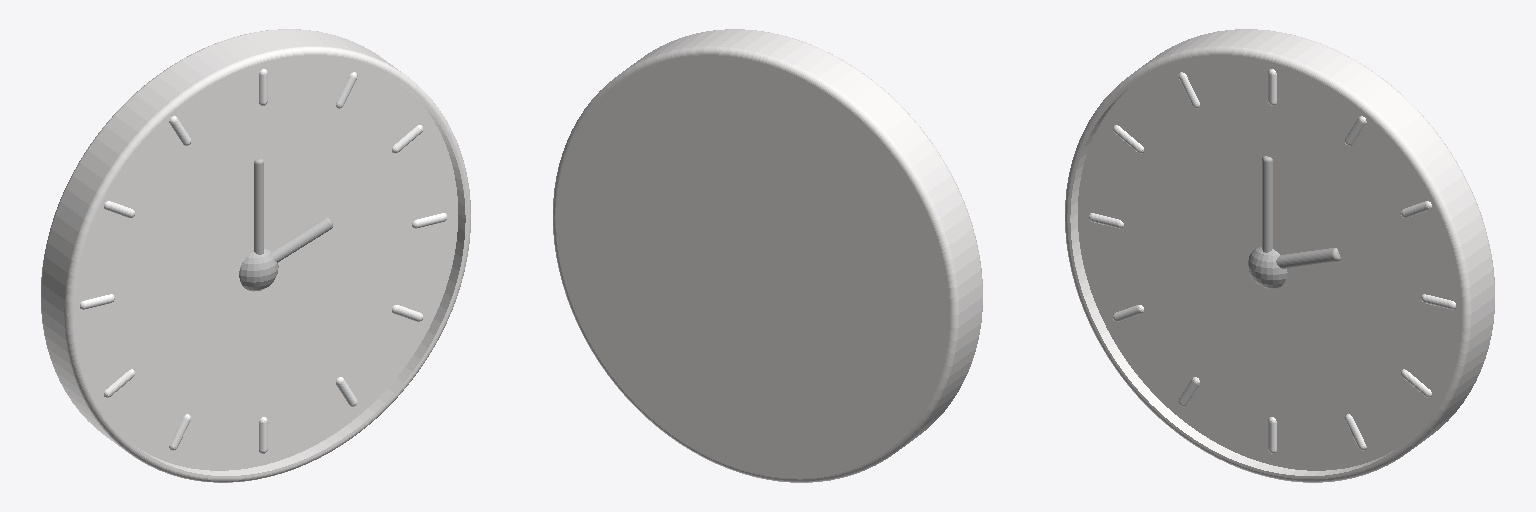
The picture shows the model from 3 angles: view 1: azimuth 30°, elevation 25°; view 2: azimuth 150°, elevation 25°; view 3: azimuth 330°, elevation 25°; orthographic projection.
Parts seen in each view (by area): view 1: 圆柱, 球体, 圆柱.1, 圆柱.2; view 2: 圆柱; view 3: 圆柱, 球体, 圆柱.1, 圆柱.2.
Part boxes in pixels (left/top/right/bottom): 圆柱: left=41, top=29, right=470, bottom=482; 球体: left=239, top=249, right=278, bottom=291; 圆柱.1: left=254, top=158, right=263, bottom=254; 圆柱.2: left=271, top=217, right=332, bottom=262; 圆柱: left=553, top=29, right=982, bottom=482; 圆柱: left=1065, top=29, right=1494, bottom=482; 球体: left=1248, top=247, right=1287, bottom=288; 圆柱.1: left=1262, top=156, right=1272, bottom=252; 圆柱.2: left=1276, top=248, right=1340, bottom=268.
Bounding box in the file's own units: 289 × 289 × 36.63.